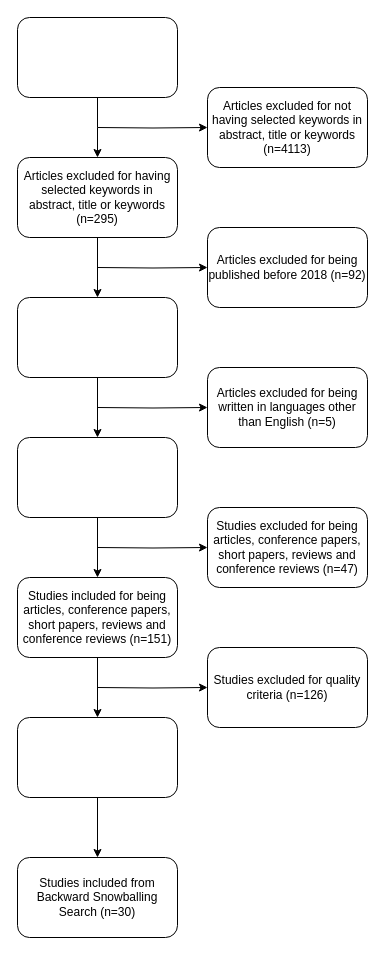
This 385x955 diagram has some shape labels left out. Each missing label, with the centre of its shape:
Articles included for being published from 2018 onwards (n=203): point 97,337
Articles included for being written in English (n=198): point 97,477
Documents identified through default database search (n=4408): point 97,57
Studies included for quality criteria (n=25): point 97,757
